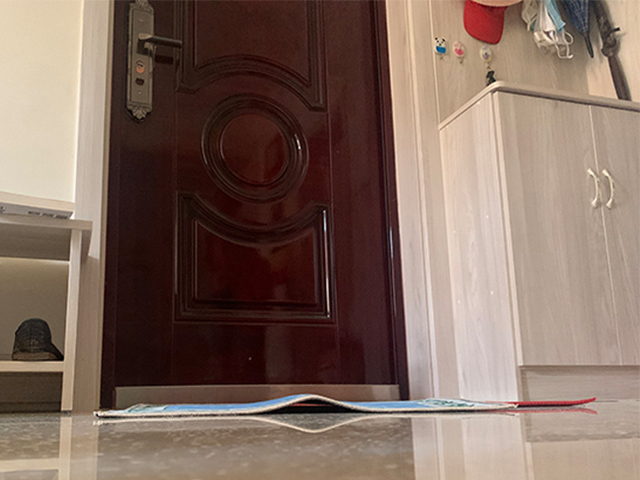carpet: (438, 79, 640, 404), (94, 392, 596, 417)
